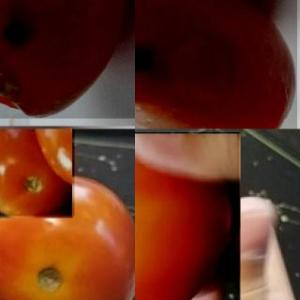tomato: (135, 132, 239, 300), (0, 172, 136, 300), (0, 130, 74, 216)
